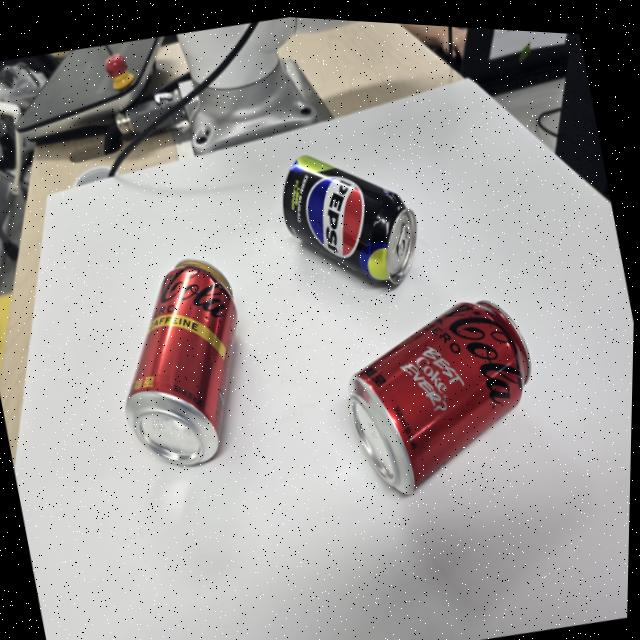can_coke_decaf: (122, 256, 240, 470)
can_coke_zero: (343, 296, 534, 500)
can_pepsi_zero: (280, 154, 418, 293)
